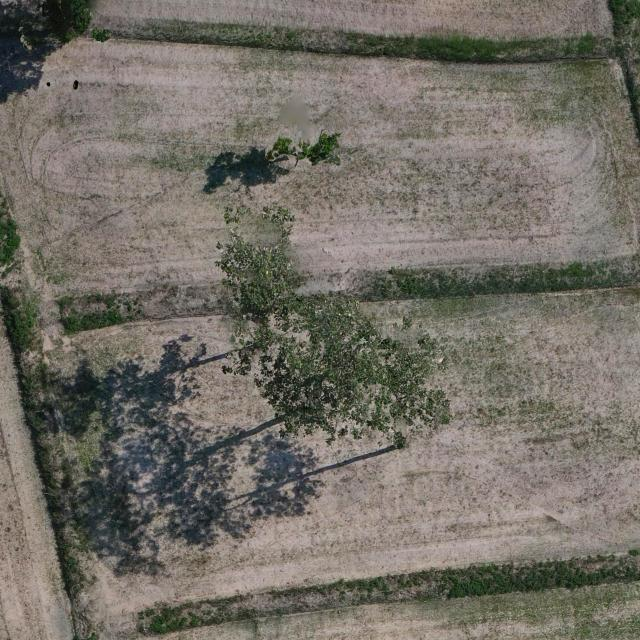Tree: (252, 290, 454, 448), (214, 202, 309, 376), (266, 128, 342, 169), (0, 216, 22, 282)
